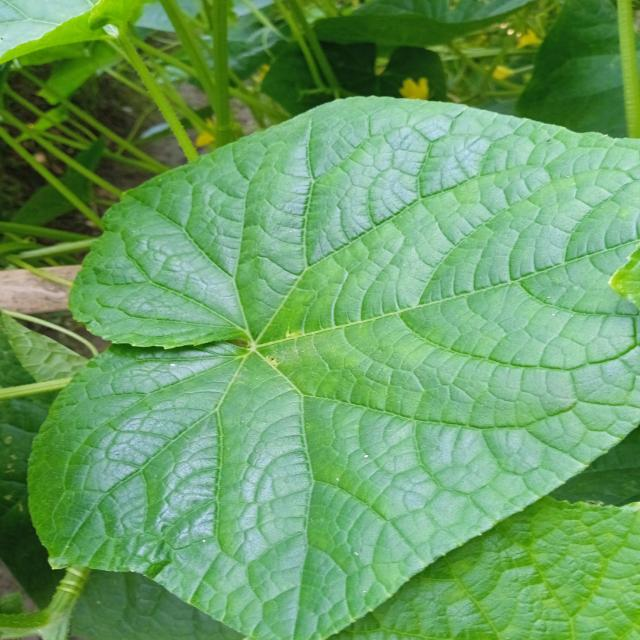cucumber_healthy: (22, 85, 639, 640)
